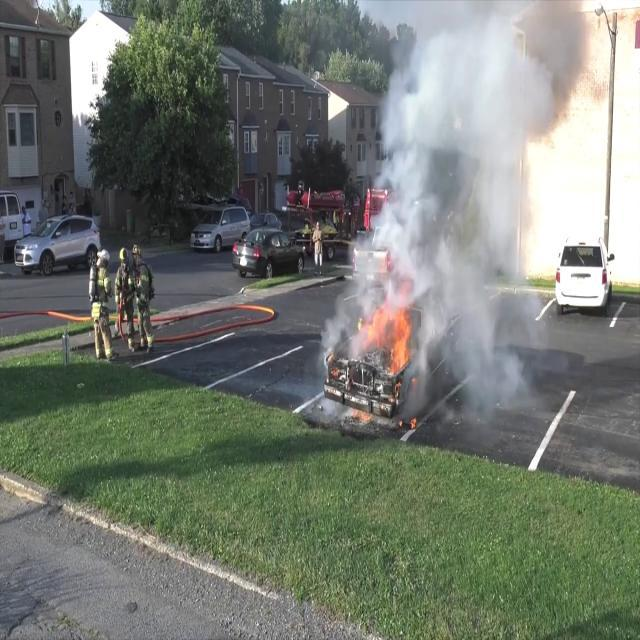Fire: (364, 295, 416, 389)
Smoke: (335, 1, 590, 407)
